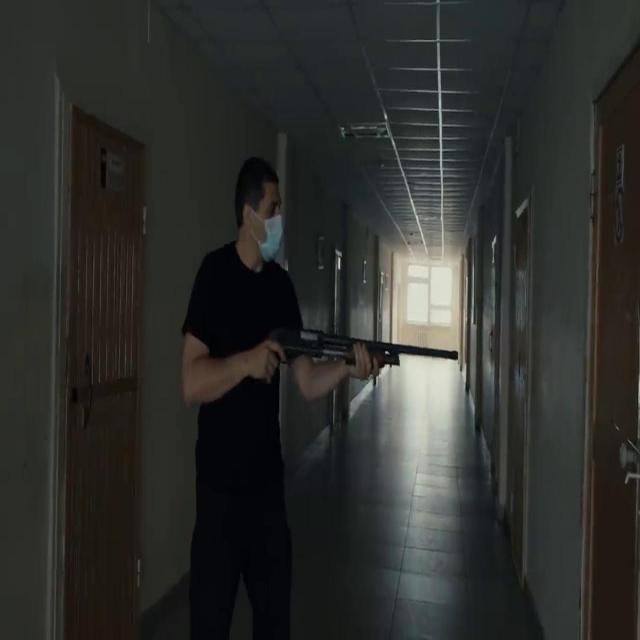gun: (181, 155, 463, 640), (266, 322, 459, 384)
